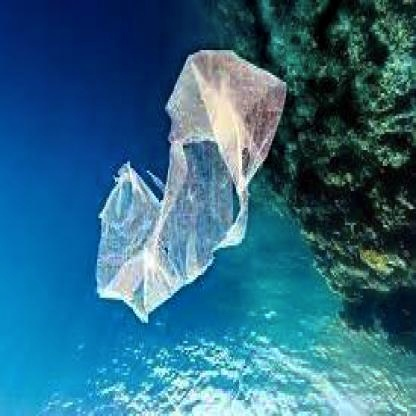pbag: (94, 48, 287, 327)
